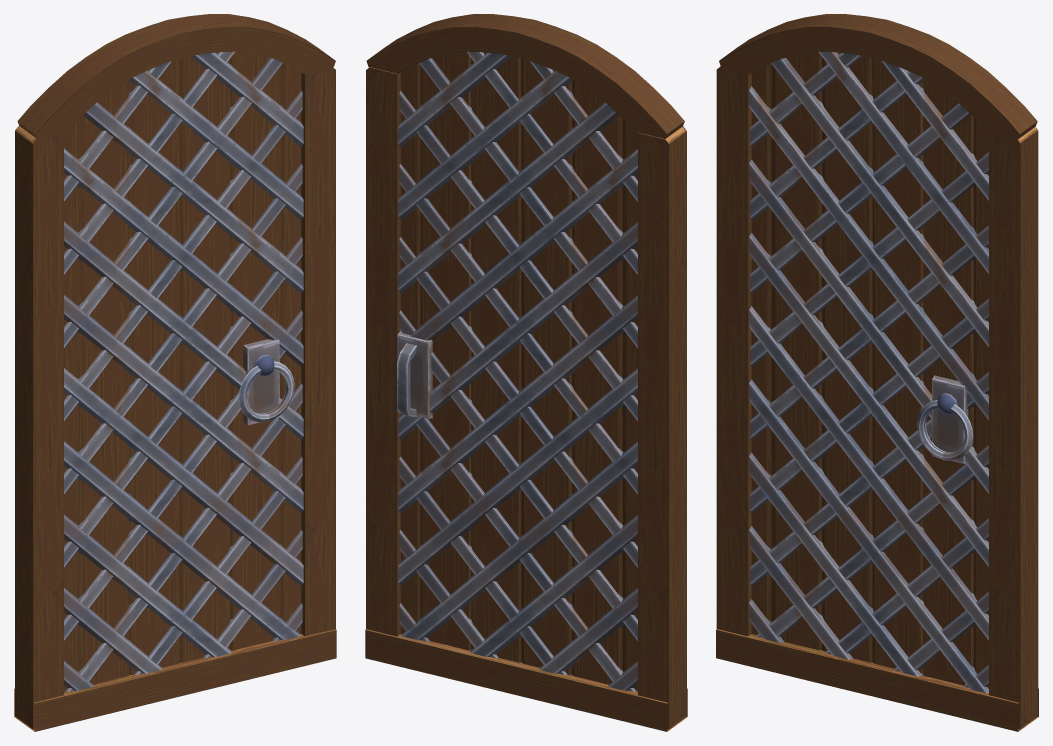
File: Door_4_Round.glb
3 renders of one model, left to right at view 1: azimuth 30°, elevation 25°; view 2: azimuth 150°, elevation 25°; view 3: azimuth 330°, elevation 25°, orthographic.
Visible parts, largest first — view 1: Door_4_Round; view 2: Door_4_Round; view 3: Door_4_Round.
Part boxes in pixels (<box>): Door_4_Round: <box>14,14,336,731</box>; Door_4_Round: <box>365,14,687,731</box>; Door_4_Round: <box>716,14,1038,731</box>.
Size of the model in its own units: 1.11 by 2.32 by 0.2093.
2 materials, 2 textured.
